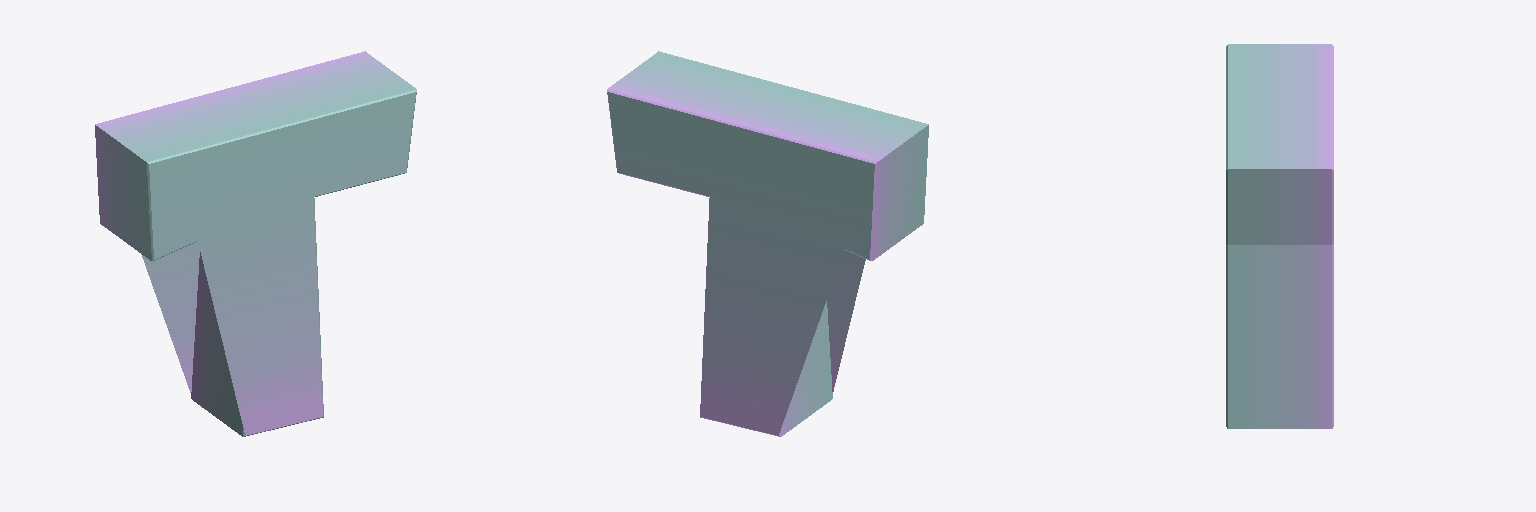
3 renders of one model, left to right at view 1: azimuth 30°, elevation 25°; view 2: azimuth 150°, elevation 25°; view 3: azimuth 270°, elevation 25°, orthographic.
Visible parts, largest first — view 1: polySurface22; view 2: polySurface22; view 3: polySurface22.
Part boxes in pixels (x1,y1,x2,y2): polySurface22: (95, 51, 416, 436); polySurface22: (607, 51, 928, 436); polySurface22: (1226, 44, 1333, 428).
Size of the model in its own units: 1.92 by 2.07 by 0.6578.
1 materials, 1 textured.